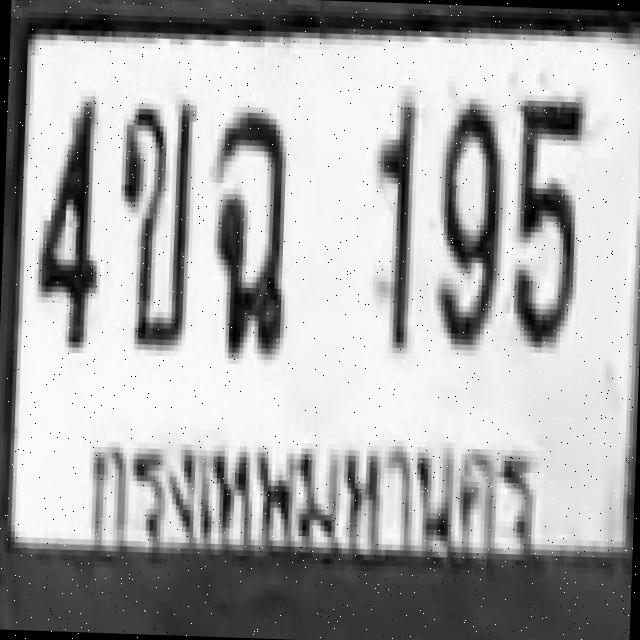0: (432, 97, 502, 345)
1: (368, 92, 417, 350)
11KhorKhai: (112, 95, 193, 342)
18ChorChing: (204, 102, 289, 352)
4: (32, 86, 99, 345)
5: (508, 92, 586, 346)
9: (432, 97, 502, 345)
Bangkok: (73, 426, 552, 578)
